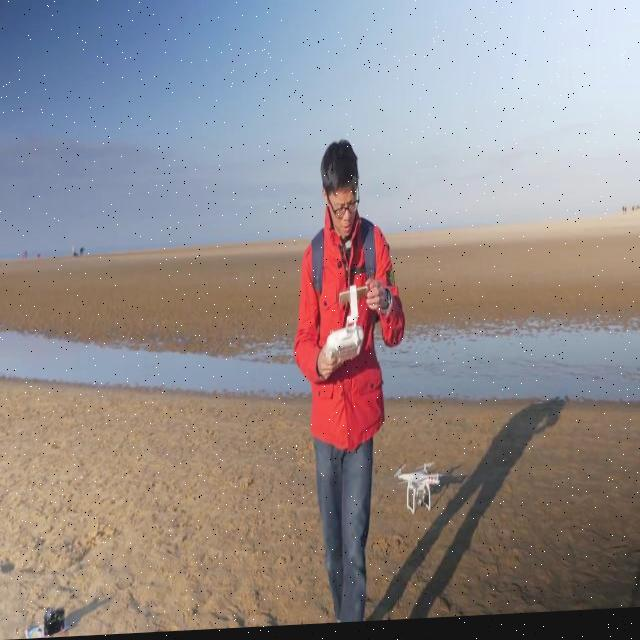drone: (392, 459, 444, 519)
